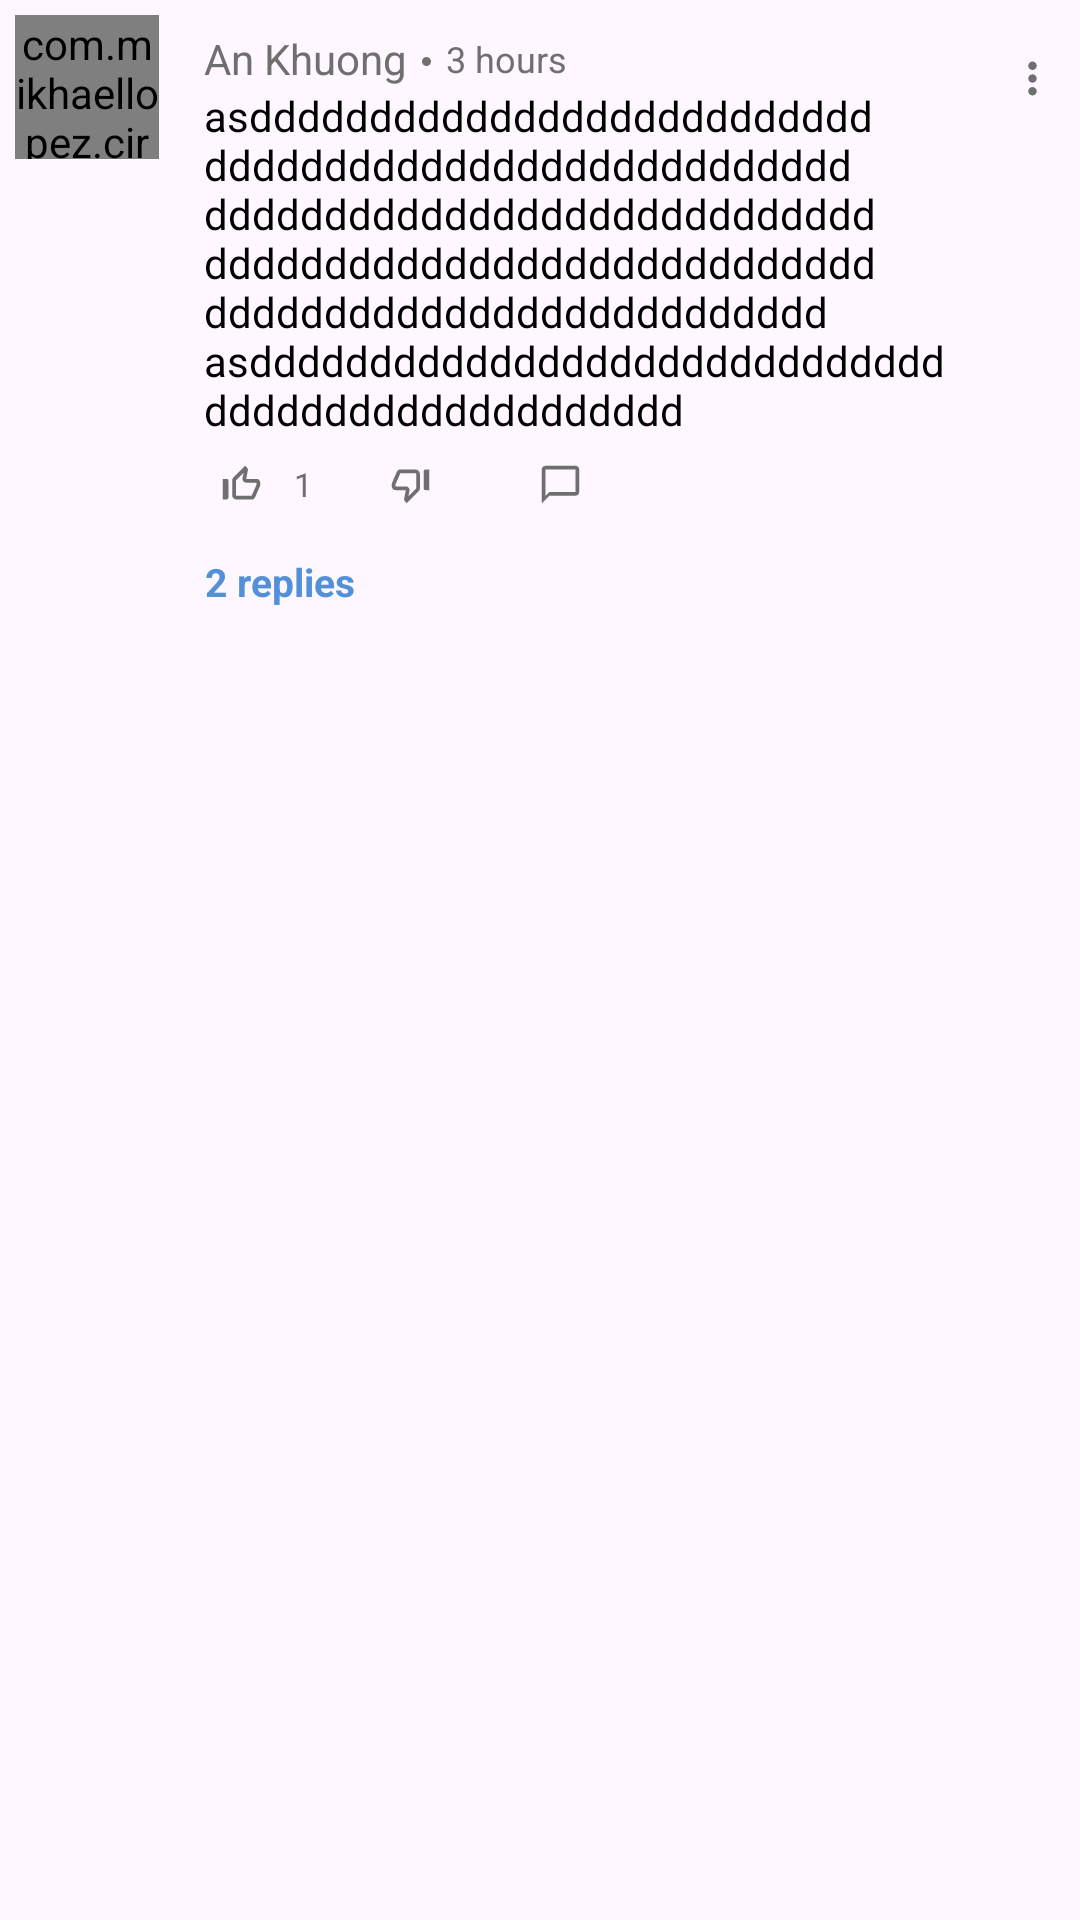

Screen size 1080*1920. Icon name, then its box in pixels as (x1, y1, x2, y2):
chat bubble: (541, 465, 580, 503)
more vert: (1028, 61, 1037, 96)
thumb down off not: (391, 469, 430, 503)
thumb up off: (222, 466, 261, 500)
